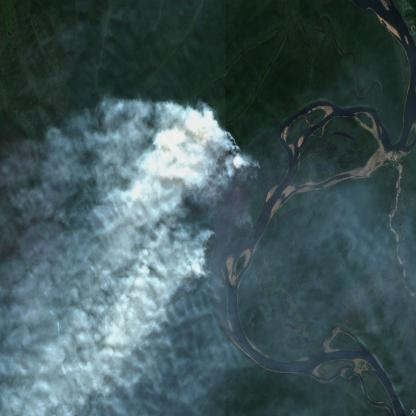fire: (168, 113, 243, 200), (198, 224, 225, 284)
